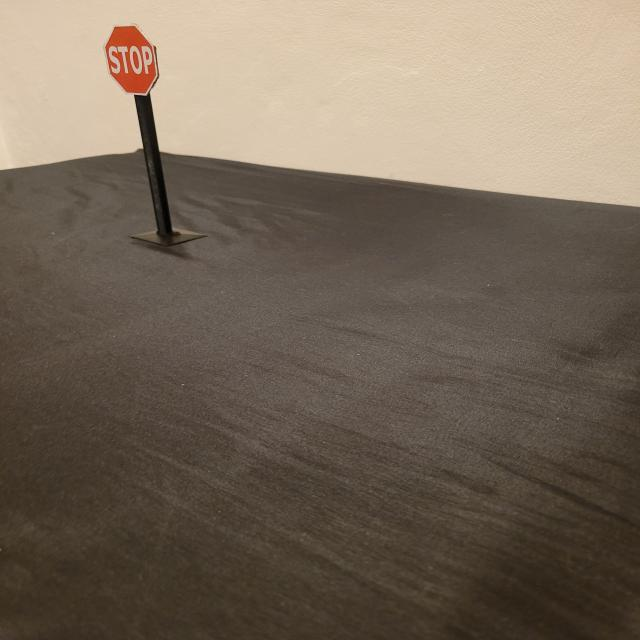stop: (102, 23, 159, 96)
